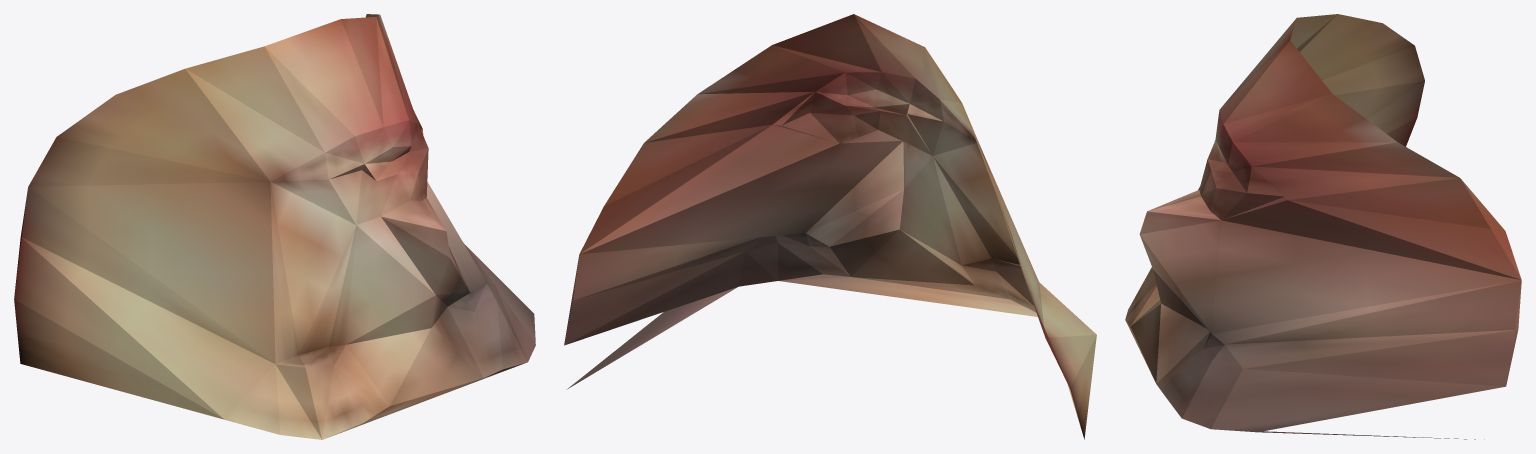
The model's file is fake_68945.obj.
3 views of the same model, side by side, from view 1: azimuth 30°, elevation 25°; view 2: azimuth 150°, elevation 25°; view 3: azimuth 270°, elevation 25° (orthographic). The views are drawn at different scales.
Bounding box in the file's own units: 117 × 83 × 93.91.
